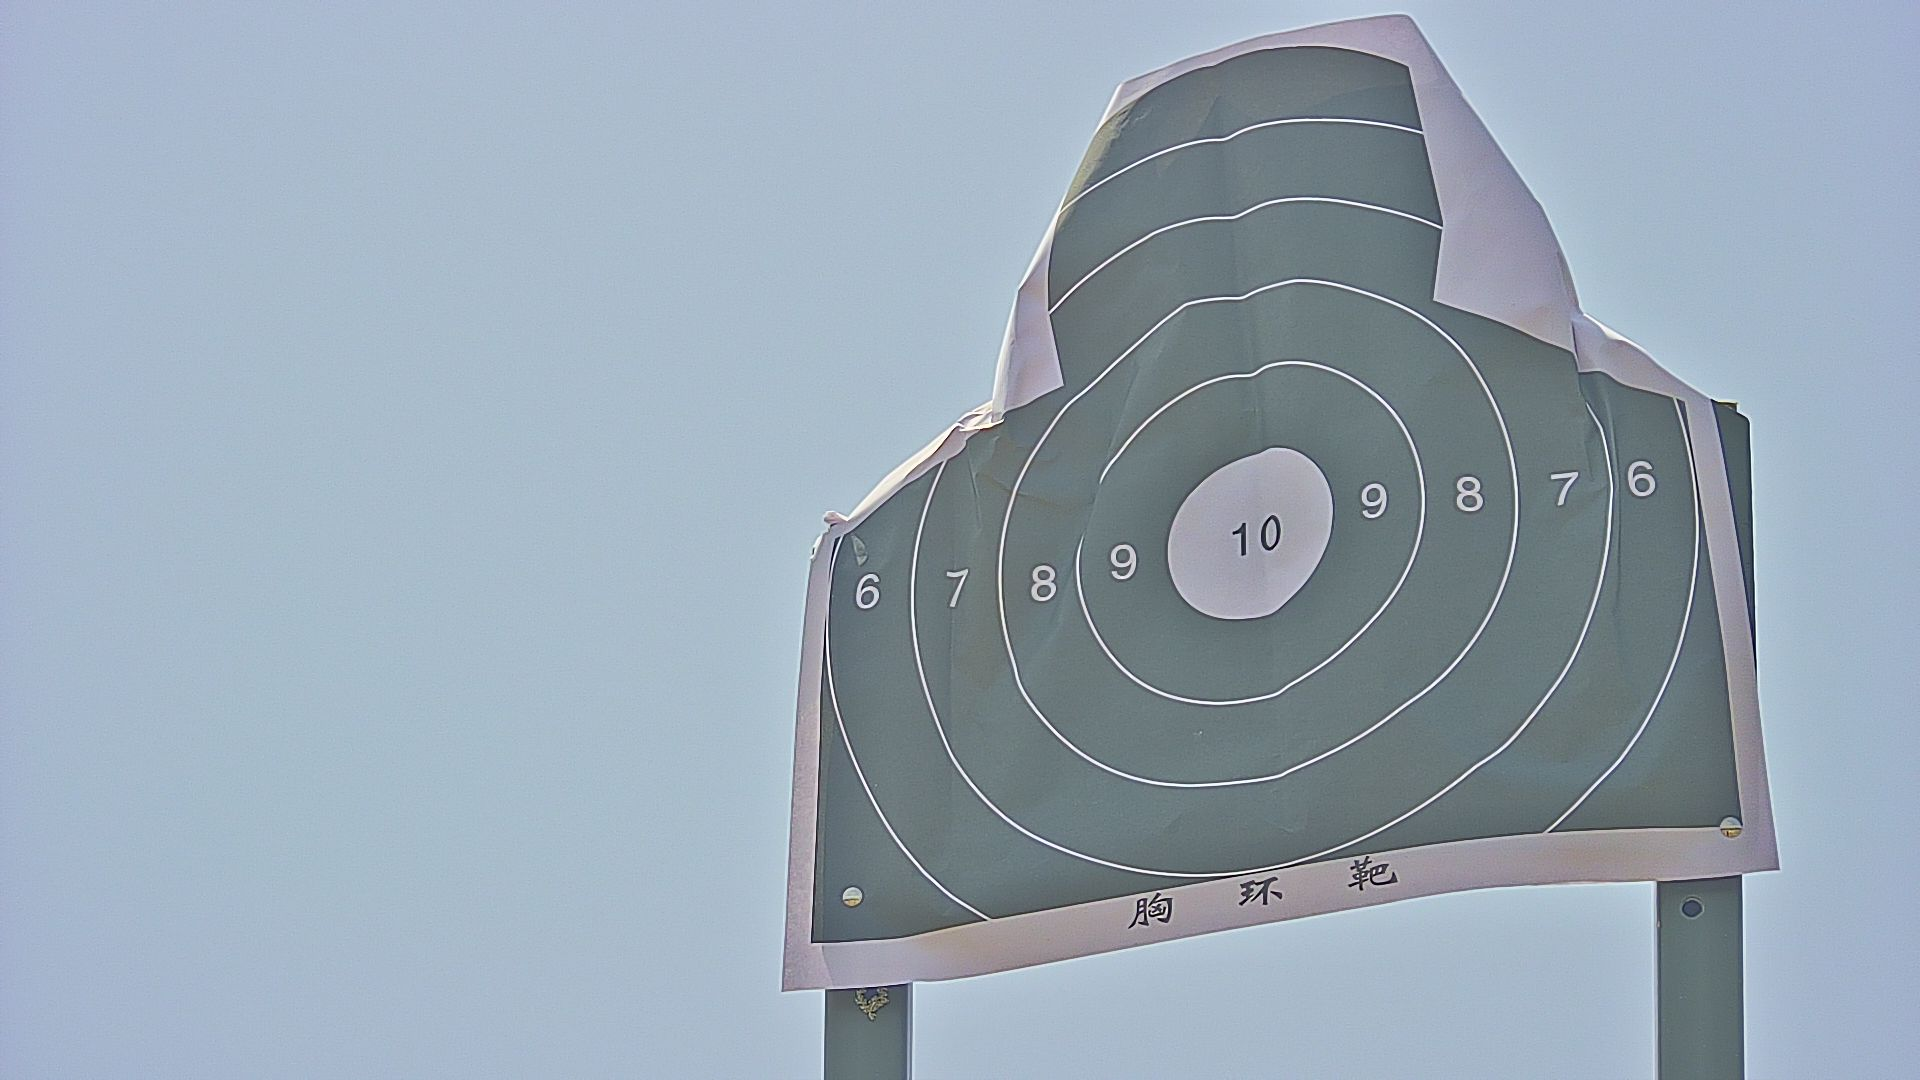kernel: (1253, 537, 1259, 541)
target: (806, 47, 1745, 945)
ten: (1162, 447, 1332, 620)
